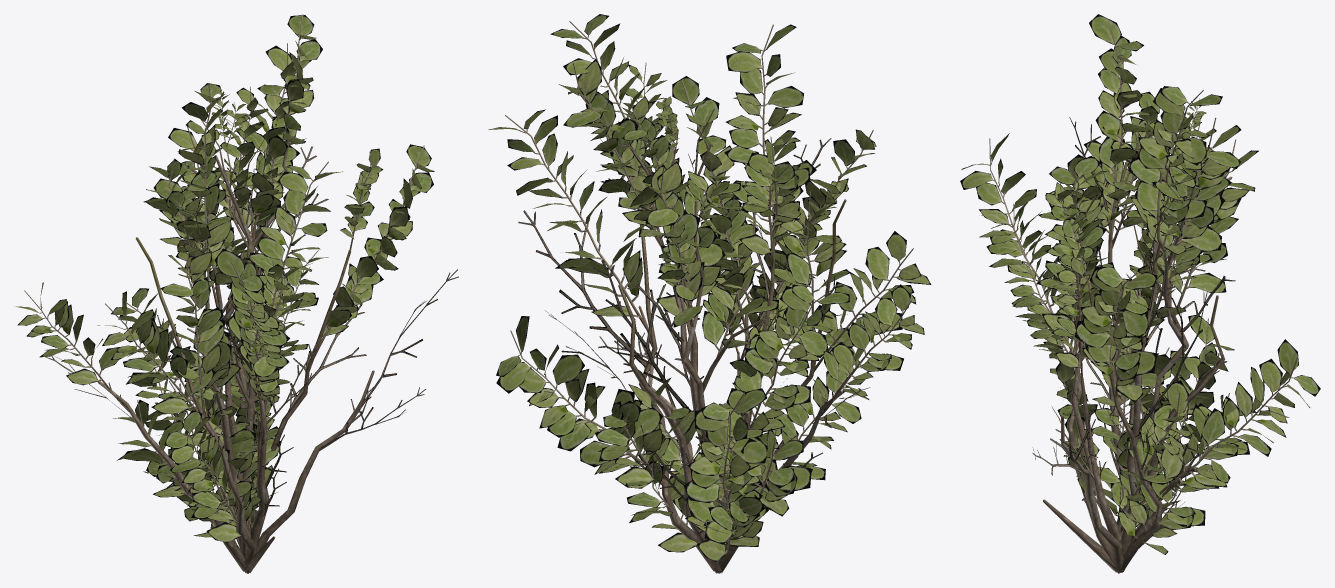
The model's file is selected.gltf.
3 views of the same model, side by side, from view 1: azimuth 30°, elevation 25°; view 2: azimuth 150°, elevation 25°; view 3: azimuth 270°, elevation 25° (orthographic). The views are drawn at different scales.
Parts seen in each view (by area): view 1: searsia_lucida_f_LOD0, searsia_lucida_g_LOD0; view 2: searsia_lucida_f_LOD0, searsia_lucida_g_LOD0; view 3: searsia_lucida_f_LOD0, searsia_lucida_g_LOD0.
Part boxes in pixels (bbox=[...]): searsia_lucida_f_LOD0: bbox=[16, 43, 458, 573]; searsia_lucida_g_LOD0: bbox=[111, 14, 328, 572]; searsia_lucida_f_LOD0: bbox=[488, 59, 931, 573]; searsia_lucida_g_LOD0: bbox=[550, 14, 849, 573]; searsia_lucida_f_LOD0: bbox=[960, 117, 1320, 573]; searsia_lucida_g_LOD0: bbox=[990, 14, 1232, 572].
Bounding box in the file's own units: 0.6576 × 0.7868 × 0.4832.
3 materials, 3 textured.
